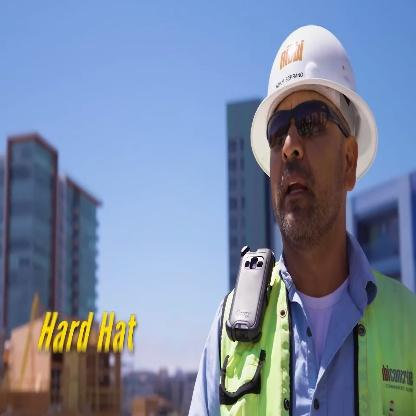helmet: (246, 17, 369, 269)
